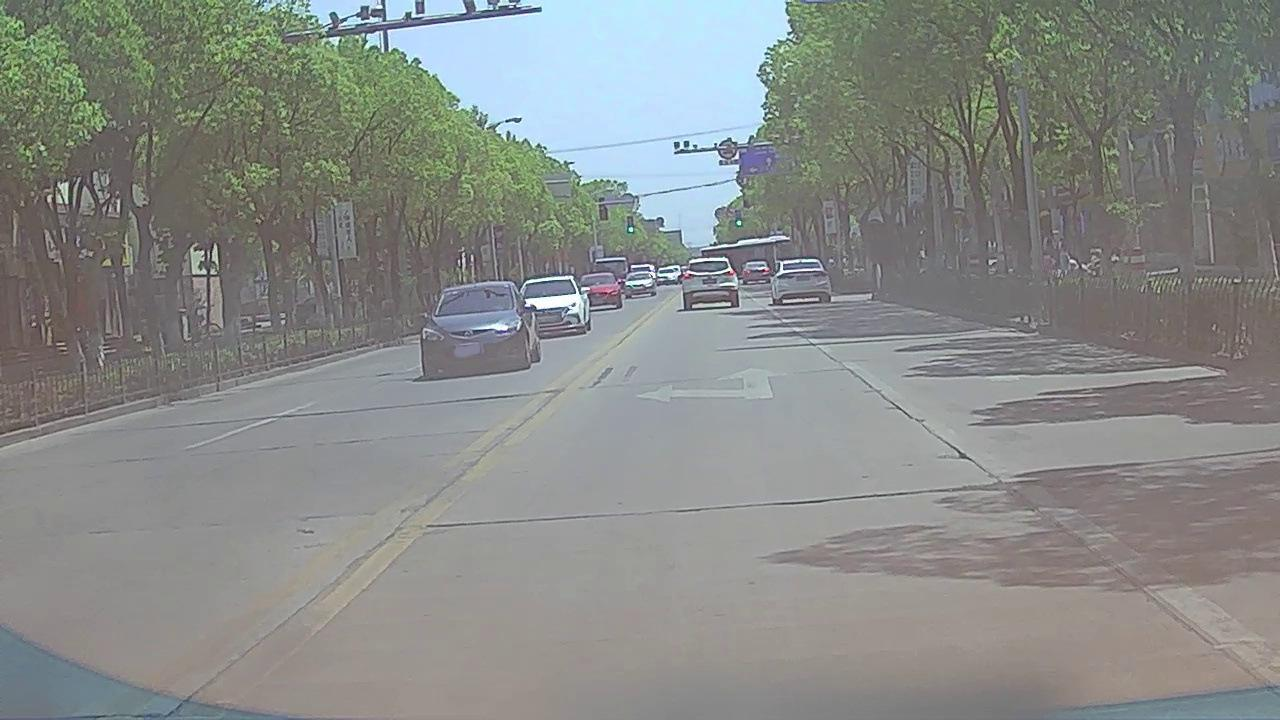traffic_light: (626, 216, 634, 234), (735, 209, 743, 227)
